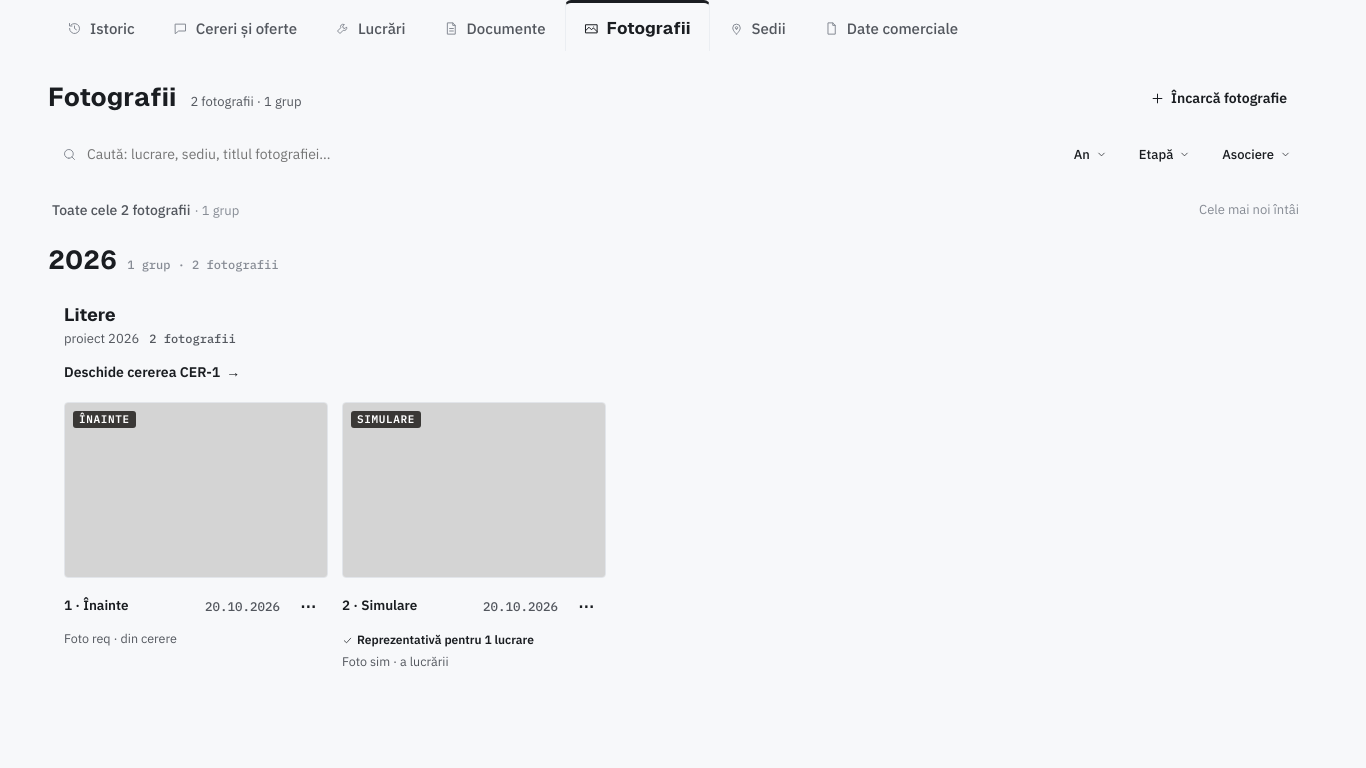
Test case: Fotografia reprezentativă a lucrării (N-021) › goes back to the automatic choice without touching the photo
The image size is (1366, 768).
(page scrolled)
What coordinates should you click on to do the following:
click the button named "Acțiuni pentru Foto sim"
I would click on:
 (586, 606)
Its box is x1=566 y1=586 x2=606 y2=626.
(page scrolled)
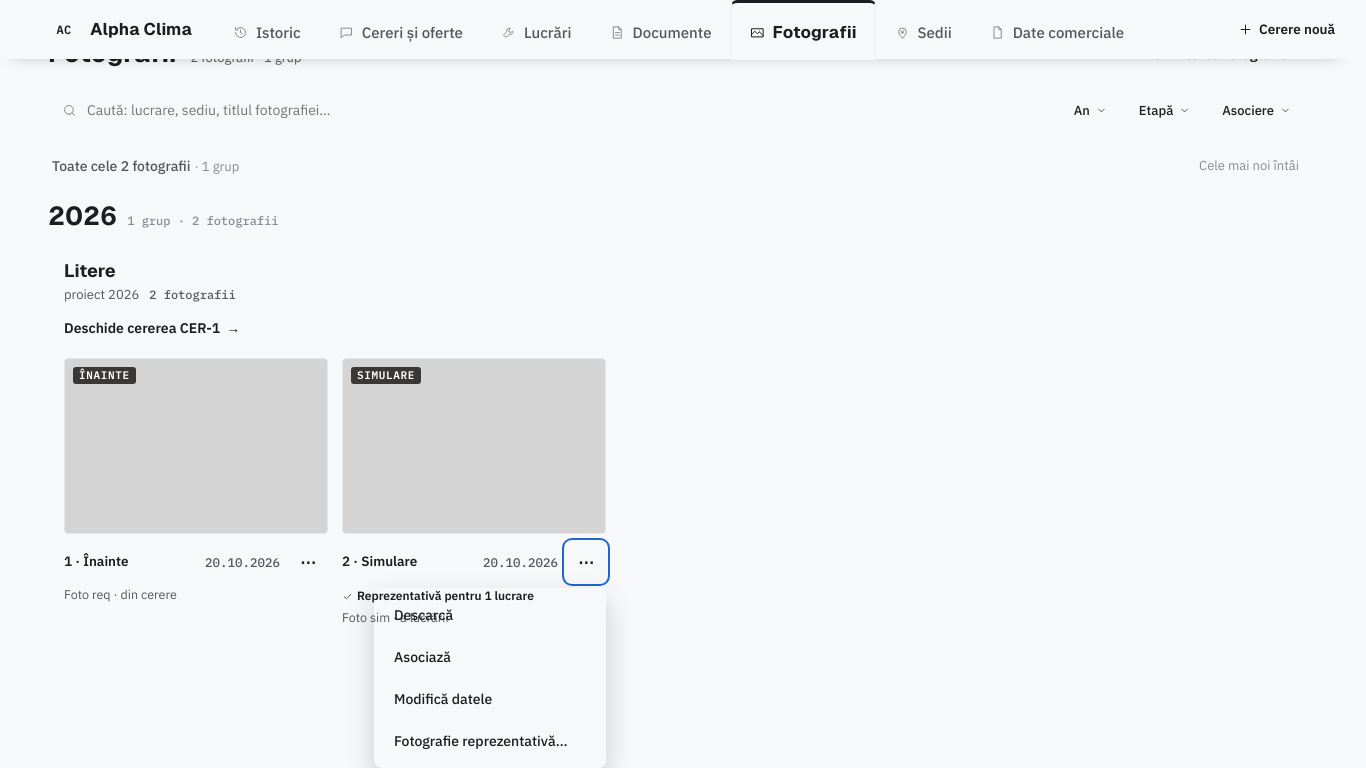
What coordinates should you click on to do the following:
click the button "Fotografie reprezentativă…"
I would click on:
 (490, 741)
Its box is x1=380 y1=720 x2=600 y2=762.
(page scrolled)
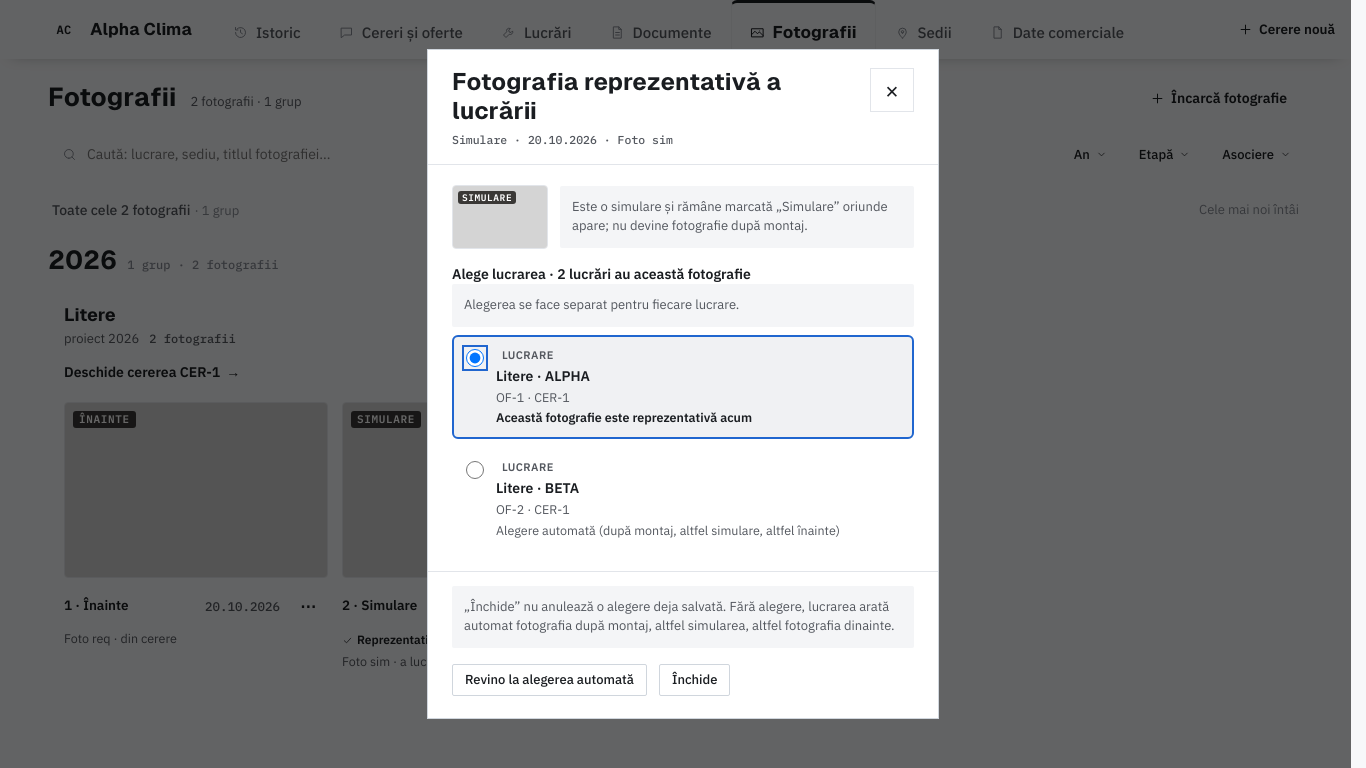
Result: the radio button labelled "Litere · ALPHA" is checked at x1=466 y1=349 x2=484 y2=367
What coordinates should you click on to do the following:
click the button "Revino la alegerea automată"
I would click on:
 (550, 680)
Its box is x1=452 y1=658 x2=647 y2=702.
(page scrolled)
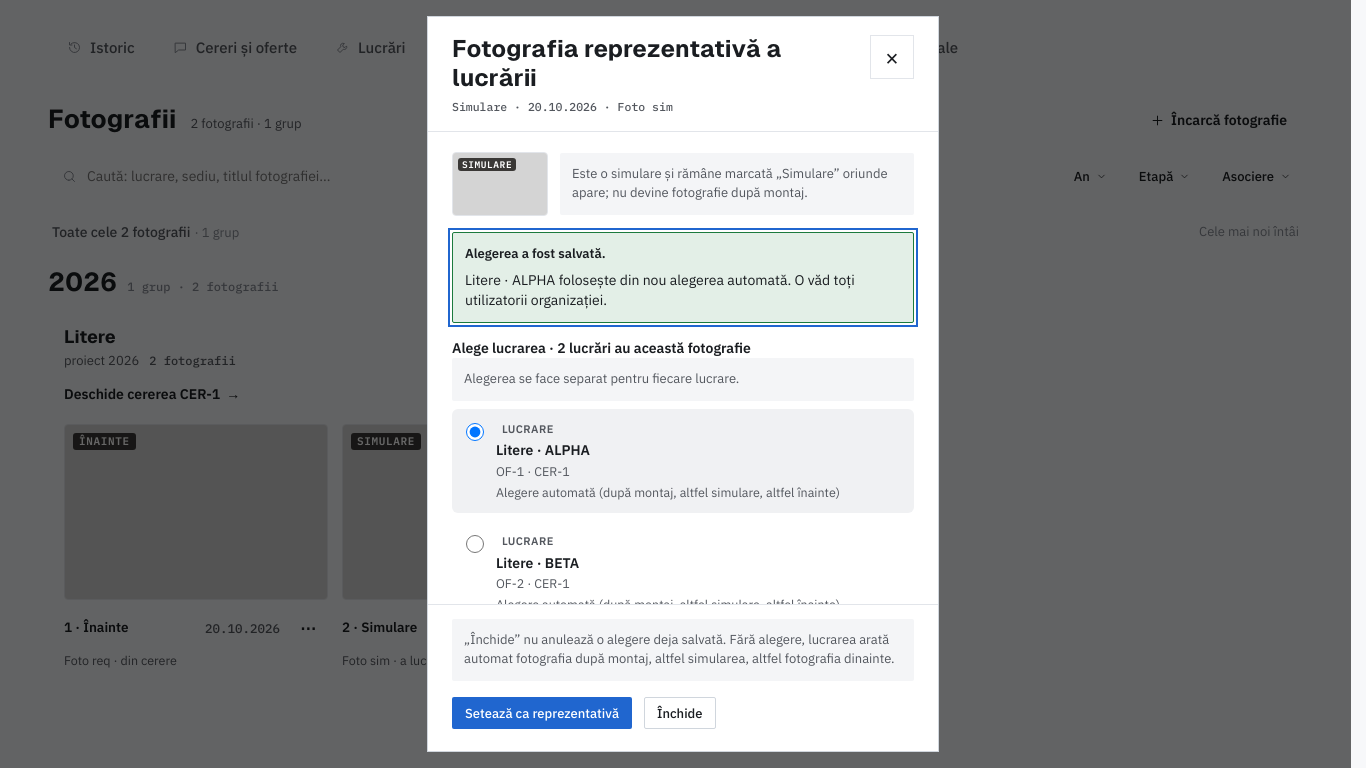
Result: the text "folosește din nou alegerea automată" is shown at x1=465 y1=270 x2=855 y2=309
